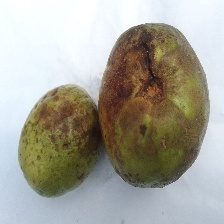guava: (41, 30, 218, 167)
